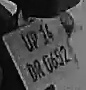0: (43, 56, 53, 73)
1: (38, 26, 47, 44)
2: (59, 47, 70, 62)
4: (45, 25, 55, 40)
6: (49, 52, 58, 70)
9: (55, 49, 64, 67)
P: (28, 31, 40, 49)
R: (26, 63, 37, 82), (34, 61, 44, 77)
U: (21, 34, 33, 53)
